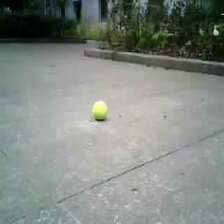tennis: (92, 101, 108, 119)
